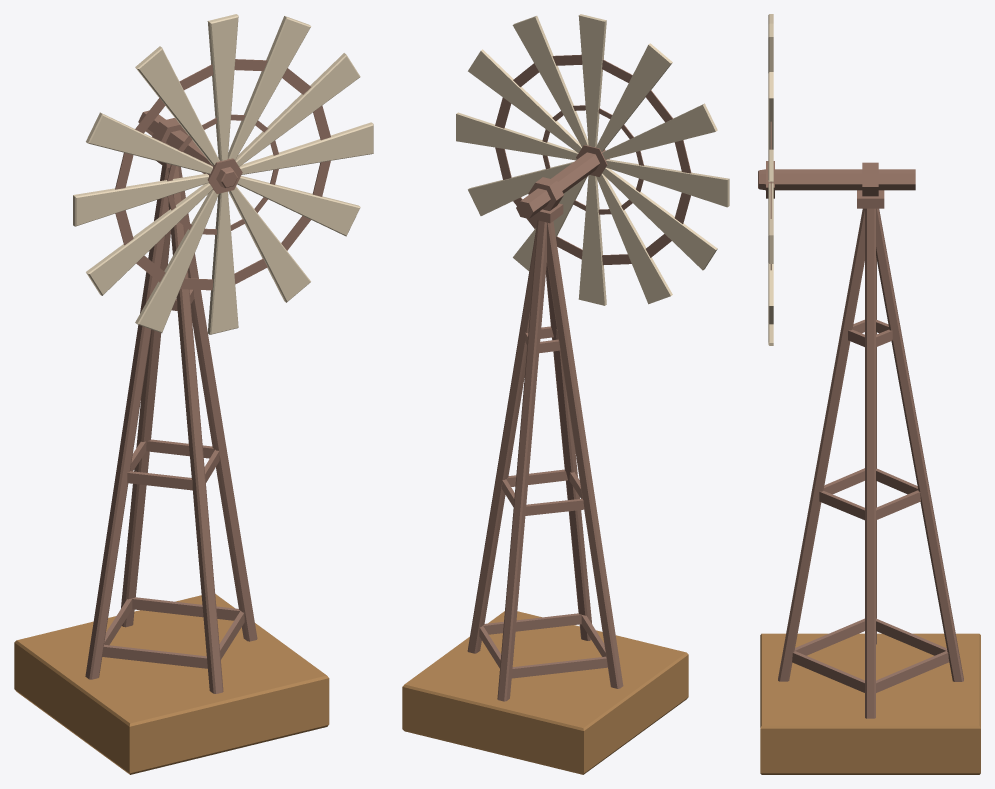
Rendered from farmstructure_d.gltf.
3 views of the same model, side by side, from view 1: azimuth 30°, elevation 25°; view 2: azimuth 150°, elevation 25°; view 3: azimuth 270°, elevation 25° (orthographic). The views are drawn at different scales.
Visible parts, largest first — view 1: Box397, Line017, Box394; view 2: Line017, Box394, Box397; view 3: Line017, Box394, Box397.
Boxes of the visible parts, x1,y1,x2,y2 form: Box397: (73,14,373,334); Line017: (85,59,330,693); Box394: (14,594,329,774); Line017: (467,54,691,701); Box394: (402,611,688,774); Box397: (456,14,729,305); Line017: (758,121,963,718); Box394: (760,633,980,774); Box397: (768,14,773,345).
Bounding box in the file's own units: 6.07 × 14.16 × 4.1.
1 material, 1 textured.
